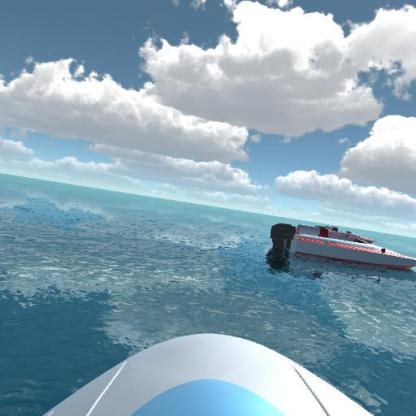usv0: (319, 220, 341, 233)
usv3: (268, 220, 415, 274), (310, 220, 380, 244)
